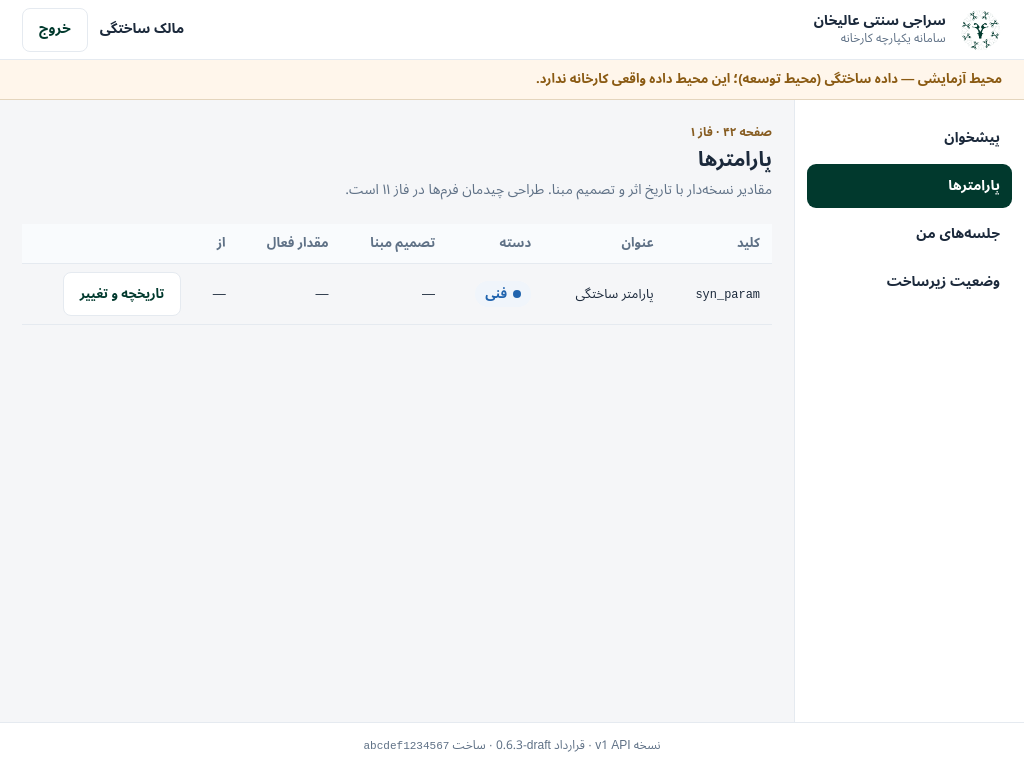
Scenario: page 42: publish button follows the server rule (DEC-056 v1.2) › a config approver sees the publish button on a TECHNICAL value
Click the button with test id "param-open-syn_param".
click(122, 294)  # box [63,272,181,316]
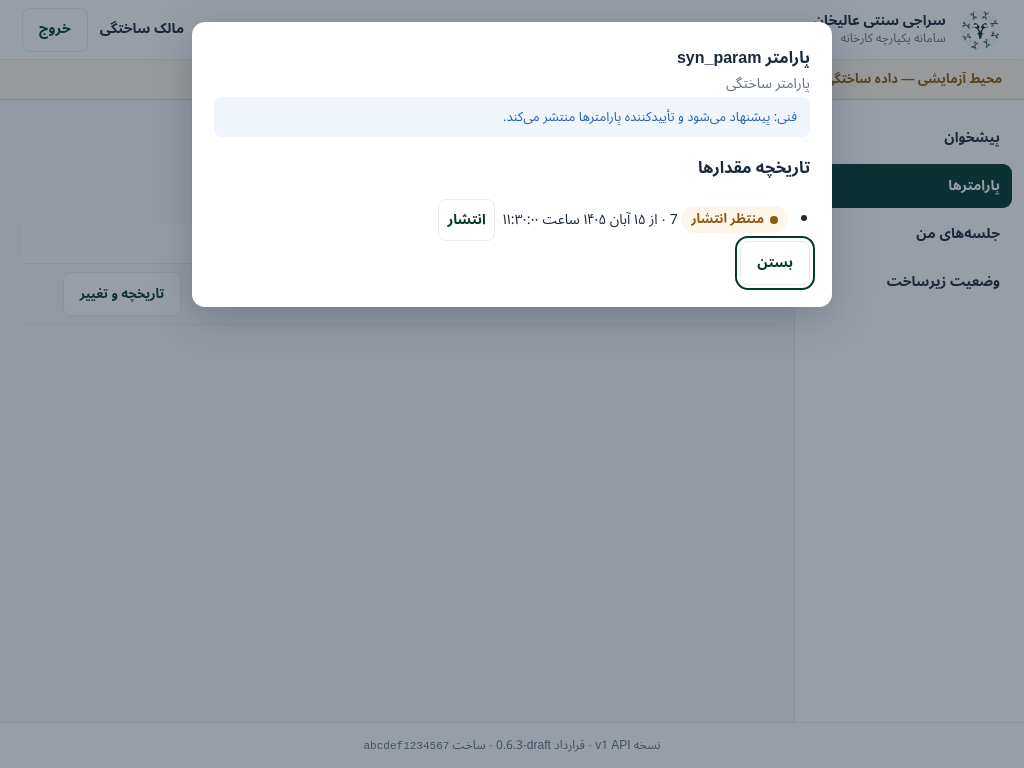
expect the list with test id "param-values" is shown: met, box [438,199,788,241]
expect the text "فنی: پیشنهاد می‌شود و تأییدکننده پارامترها منتشر می‌کند." is shown: met, box [214,96,810,137]
expect the button with test id "param-publish" is shown: met, box [438,199,495,241]
